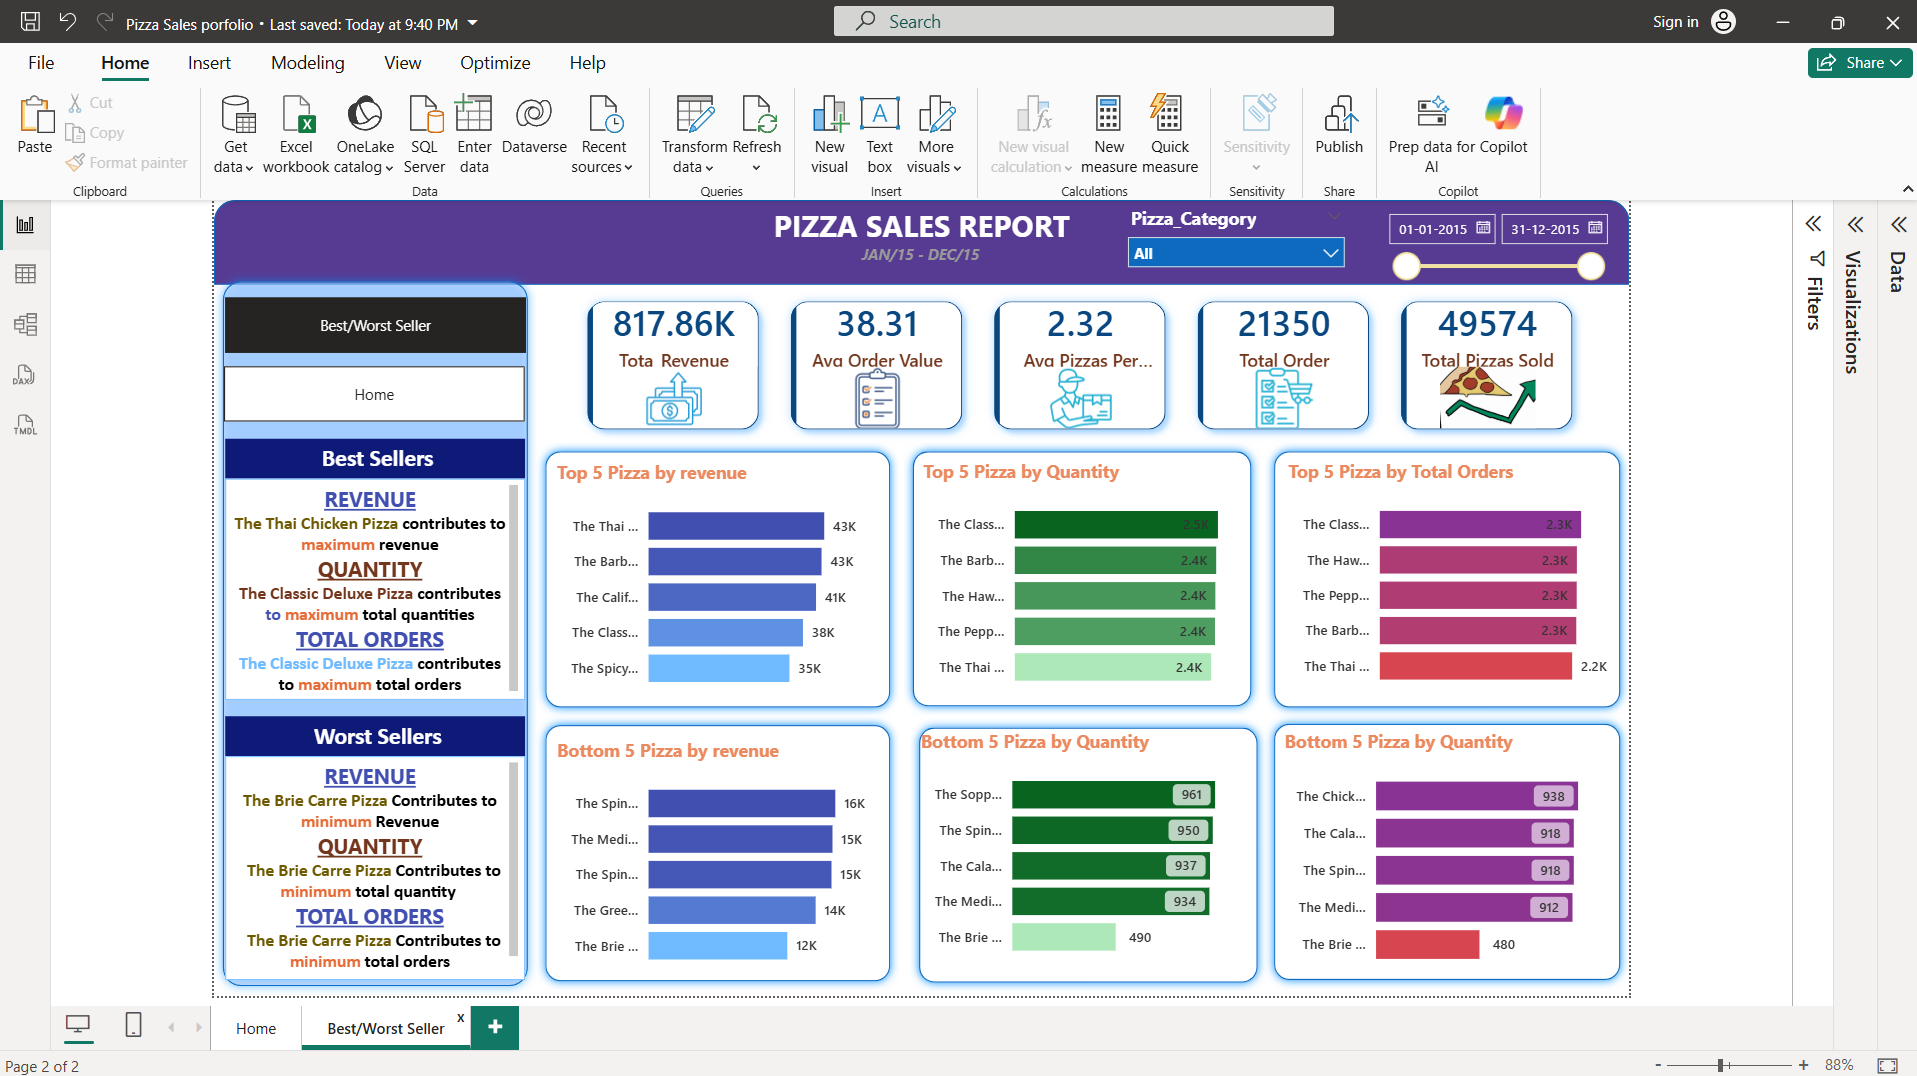

The dashboard page shown, as its layout file describes it:
{"tool":"powerbi","page":{"name":" Best/Worst Seller","canvas":[1280,720],"ordinal":1},"visuals":[{"type":"cardVisual","fields":{"Data":["pizza_sales.Tota_Revenue","pizza_sales.Avg Order Value","pizza_sales.Avg Pizzas Per Order","pizza_sales.Total Order","pizza_sales.Total Pizzas Sold"]},"box":[290.9,64.9,989.6,170.1],"z":0},{"type":"shape","box":[0,0,1280.2,76.7],"z":1000},{"type":"textbox","box":[484.9,0,310.5,48.8],"z":2000},{"type":"textbox","box":[565.1,34.9,147.7,30.2],"z":3000},{"type":"shape","box":[291.9,219.8,327.9,247.7],"z":4000},{"type":"shape","box":[0,65.1,291.9,653.5],"z":14000},{"type":"textbox","box":[10.5,216.3,270.9,36],"z":15000},{"type":"textbox","box":[10.5,252.3,270.9,200],"z":16000},{"type":"textbox","box":[10.5,467.4,270.9,36],"z":17000},{"type":"textbox","box":[10.5,503.5,270.9,202.3],"z":18000},{"type":"slicer","fields":{"Values":["pizza_sales.pizza_category"]},"box":[816.3,0,216.3,65.1],"z":19000},{"type":"slicer","fields":{"Values":["pizza_sales.order_date"]},"box":[1050,2.3,216.3,74.4],"z":20000},{"type":"shape","box":[624,219.7,322.1,246.6],"z":20001},{"type":"shape","box":[951.2,219.8,329.1,247.7],"z":20002},{"type":"shape","box":[291.9,467.4,327.9,247.7],"z":20003},{"type":"shape","box":[629.4,469,322.1,246.6],"z":20004},{"type":"shape","box":[951.2,466.3,329.1,247.7],"z":20005},{"type":"barChart","title":" Top 5 Pizza by revenue","fields":{"Category":["pizza_sales.pizza_name"],"Y":["pizza_sales.Tota_Revenue"]},"box":[305.8,234.9,300,219.8],"z":20006},{"type":"barChart","title":"Bottom 5 Pizza by  revenue","fields":{"Category":["pizza_sales.pizza_name"],"Y":["pizza_sales.Tota_Revenue"]},"box":[305.8,486,300,219.8],"z":20007},{"type":"barChart","title":" Top 5 Pizza by Quantity","fields":{"Category":["pizza_sales.pizza_name"],"Y":["pizza_sales.Total Pizzas Sold"]},"box":[636.1,234.5,300.5,219.7],"z":20008},{"type":"barChart","title":"Bottom 5 Pizza by Quantity","fields":{"Category":["pizza_sales.pizza_name"],"Y":["pizza_sales.Total Pizzas Sold"]},"box":[634.7,478.4,300.5,219.7],"z":20009},{"type":"barChart","title":" Top 5 Pizza by  Total Orders","fields":{"Category":["pizza_sales.pizza_name"],"Y":["pizza_sales.Total Order"]},"box":[966.3,233.7,300,218.6],"z":20010},{"type":"barChart","title":"Bottom 5 Pizza by Quantity","fields":{"Category":["pizza_sales.pizza_name"],"Y":["pizza_sales.Total Order"]},"box":[963.6,478.4,301.9,227.8],"z":20011},{"type":"pageNavigator","box":[10.5,88.4,272.1,50],"z":20012},{"type":"pageNavigator","box":[9.3,150,272.1,50],"z":20013}]}

Visuals, with their boxes on the page's 1280x720 design canvas (x1, y1, x2, y2). These are canvas units, not pixel positions in the 1917x1076 screenshot, which may show the page scaled, cropped or inside an application window:
cardVisual - pizza_sales.Tota_Revenue x pizza_sales.Avg Order Value: (291, 65, 1280, 235)
shape: (0, 0, 1280, 77)
textbox: (485, 0, 795, 49)
textbox: (565, 35, 713, 65)
shape: (292, 220, 620, 468)
shape: (0, 65, 292, 719)
textbox: (10, 216, 281, 252)
textbox: (10, 252, 281, 452)
textbox: (10, 467, 281, 503)
textbox: (10, 504, 281, 706)
slicer - pizza_sales.pizza_category: (816, 0, 1033, 65)
slicer - pizza_sales.order_date: (1050, 2, 1266, 77)
shape: (624, 220, 946, 466)
shape: (951, 220, 1280, 468)
shape: (292, 467, 620, 715)
shape: (629, 469, 952, 716)
shape: (951, 466, 1280, 714)
" Top 5 Pizza by revenue" barChart: (306, 235, 606, 455)
"Bottom 5 Pizza by  revenue" barChart: (306, 486, 606, 706)
" Top 5 Pizza by Quantity" barChart: (636, 234, 937, 454)
"Bottom 5 Pizza by Quantity" barChart: (635, 478, 935, 698)
" Top 5 Pizza by  Total Orders" barChart: (966, 234, 1266, 452)
"Bottom 5 Pizza by Quantity" barChart: (964, 478, 1266, 706)
pageNavigator: (10, 88, 283, 138)
pageNavigator: (9, 150, 281, 200)
